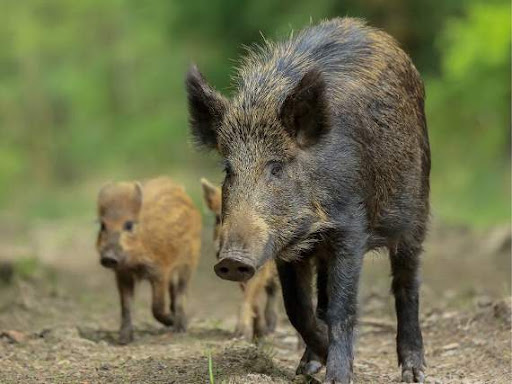boar: (183, 10, 472, 382), (93, 170, 206, 347)
